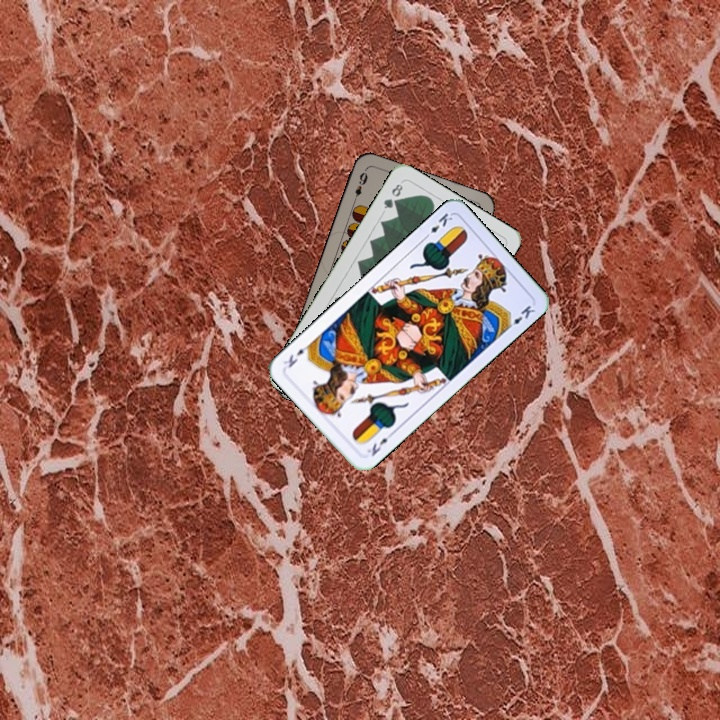E9: (349, 168, 370, 206)
EK: (420, 208, 455, 242), (363, 428, 396, 459)
G8: (379, 178, 405, 211)
